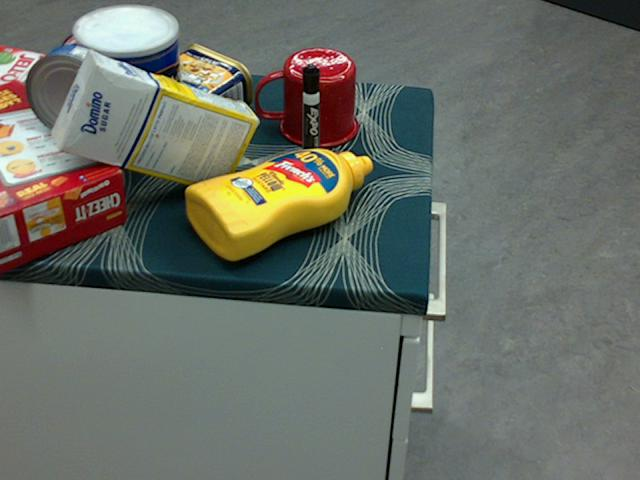cracker_box: (0, 81, 127, 270)
gelatin_box: (0, 46, 56, 109)
large_marker: (300, 63, 320, 170)
master_chef_can: (74, 6, 183, 171)
mug: (254, 48, 357, 148)
mustard_bottle: (185, 148, 372, 260)
potted_meat_can: (139, 43, 252, 133)
sugar_box: (52, 52, 259, 192)
tomato_soup_can: (48, 29, 121, 125)
tuna_fish_can: (25, 44, 121, 137)
